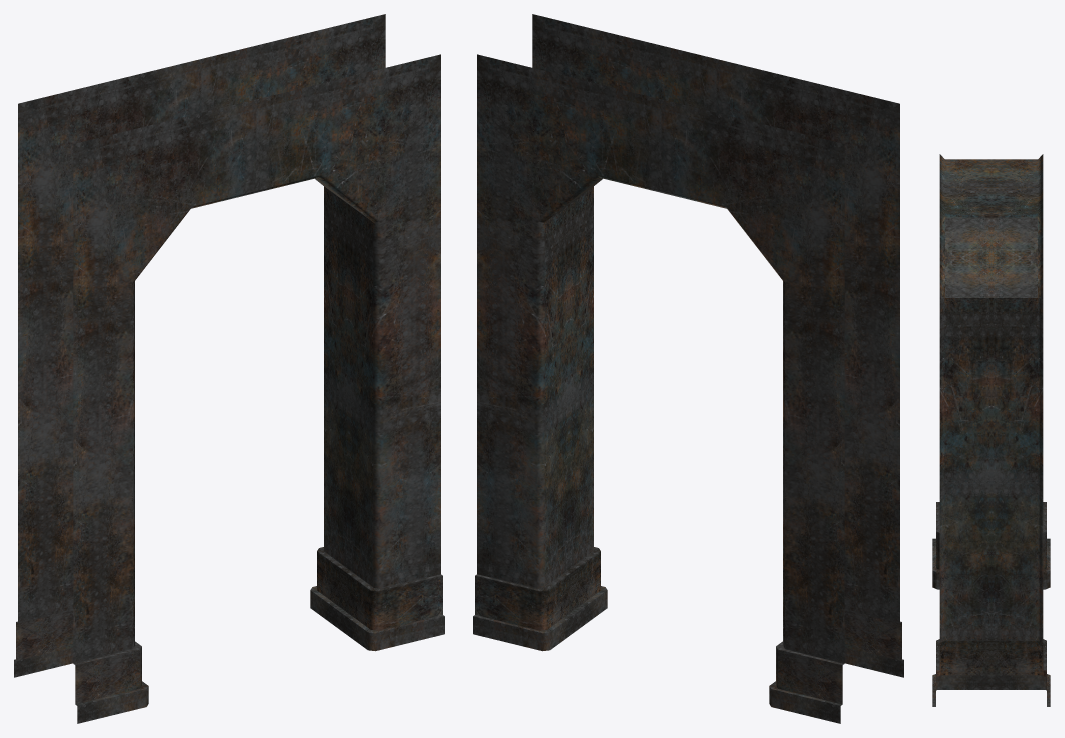
The model's file is Basement_Corridor_C_Gate_2m.glb.
3 renders of one model, left to right at view 1: azimuth 30°, elevation 25°; view 2: azimuth 150°, elevation 25°; view 3: azimuth 270°, elevation 25°, orthographic. The views are drawn at different scales.
Parts seen in each view (by area): view 1: Basement_Corridor_C_Gate_2m; view 2: Basement_Corridor_C_Gate_2m; view 3: Basement_Corridor_C_Gate_2m.
Part boxes in pixels (x1,y1,x2,y2): Basement_Corridor_C_Gate_2m: (14, 14, 444, 723); Basement_Corridor_C_Gate_2m: (473, 14, 903, 723); Basement_Corridor_C_Gate_2m: (932, 154, 1050, 706).
Size of the model in its own units: 2 by 3 by 0.595.
Materials: 1 (1 with a texture image).
